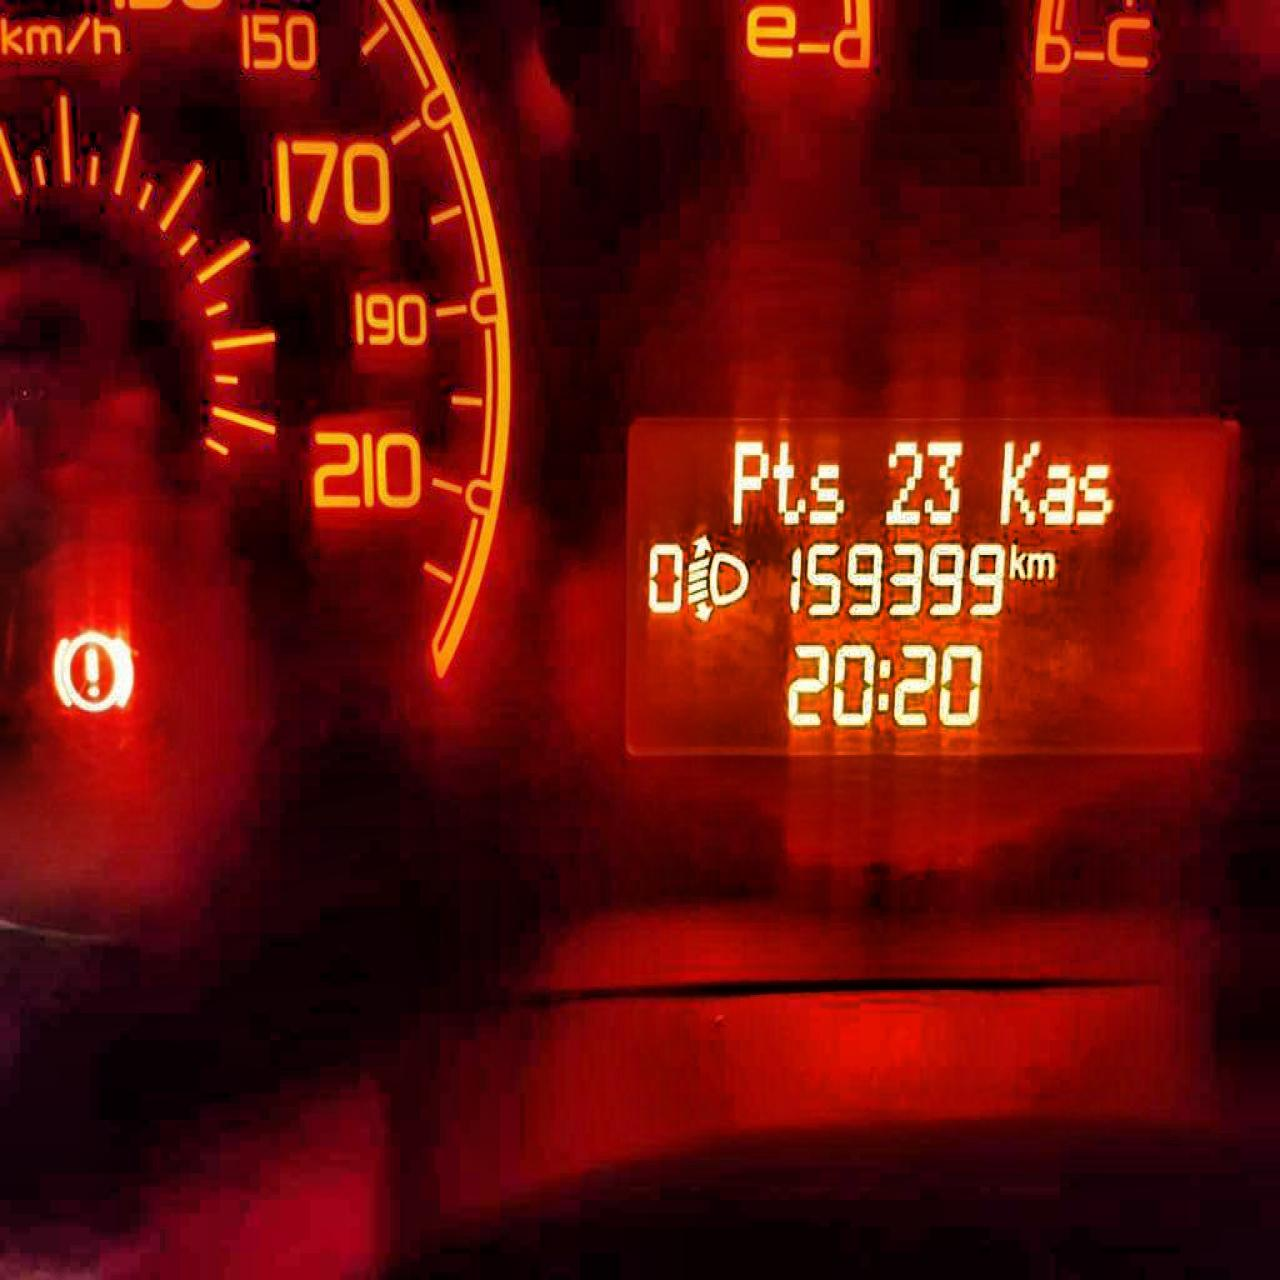0: (938, 641, 983, 727), (830, 644, 874, 729), (645, 539, 682, 613)
1: (787, 544, 803, 613)
2: (785, 641, 830, 728), (893, 641, 935, 727), (883, 438, 924, 525)
3: (922, 438, 961, 526), (886, 540, 924, 617)
5: (805, 538, 840, 614)
9: (926, 540, 965, 617), (967, 540, 1005, 617), (845, 540, 883, 615)
X: (998, 436, 1040, 526), (730, 438, 770, 526), (771, 436, 806, 526), (1036, 459, 1076, 529), (1074, 462, 1114, 525), (806, 462, 844, 526), (876, 656, 893, 715), (1026, 550, 1055, 580), (1007, 539, 1028, 578)
odometer: (617, 407, 1246, 768)
